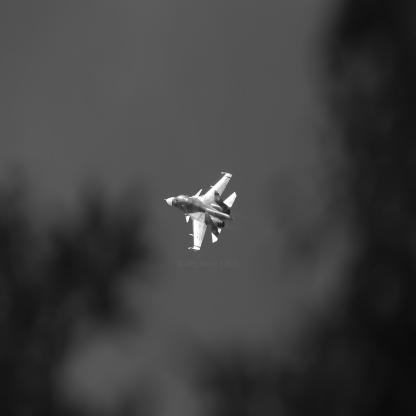Su34: (165, 173, 238, 253)
